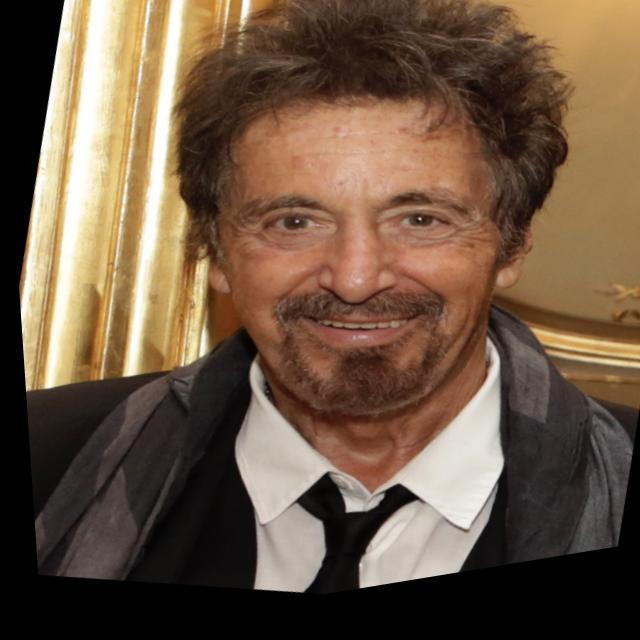Nonhelmet: (167, 0, 574, 419)
